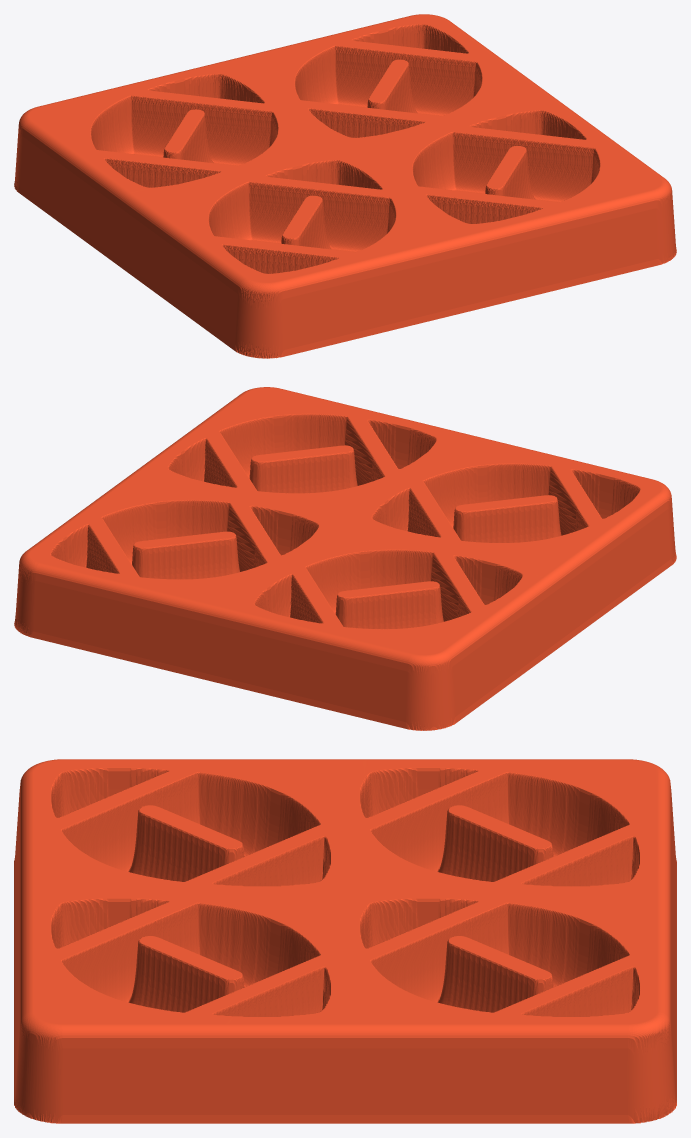
File: mold.glb
3 renders of one model, top to bottom at view 1: azimuth 30°, elevation 25°; view 2: azimuth 150°, elevation 25°; view 3: azimuth 270°, elevation 25°, orthographic. The views are drawn at different scales.
Parts seen in each view (by area): view 1: geometry_0; view 2: geometry_0; view 3: geometry_0.
Boxes of the visible parts, box(x1,y1,x2,y2) form: geometry_0: box(14, 14, 676, 358); geometry_0: box(14, 387, 676, 730); geometry_0: box(14, 759, 676, 1123).
Size of the model in its own units: 0.1218 by 0.0185 by 0.1218.
